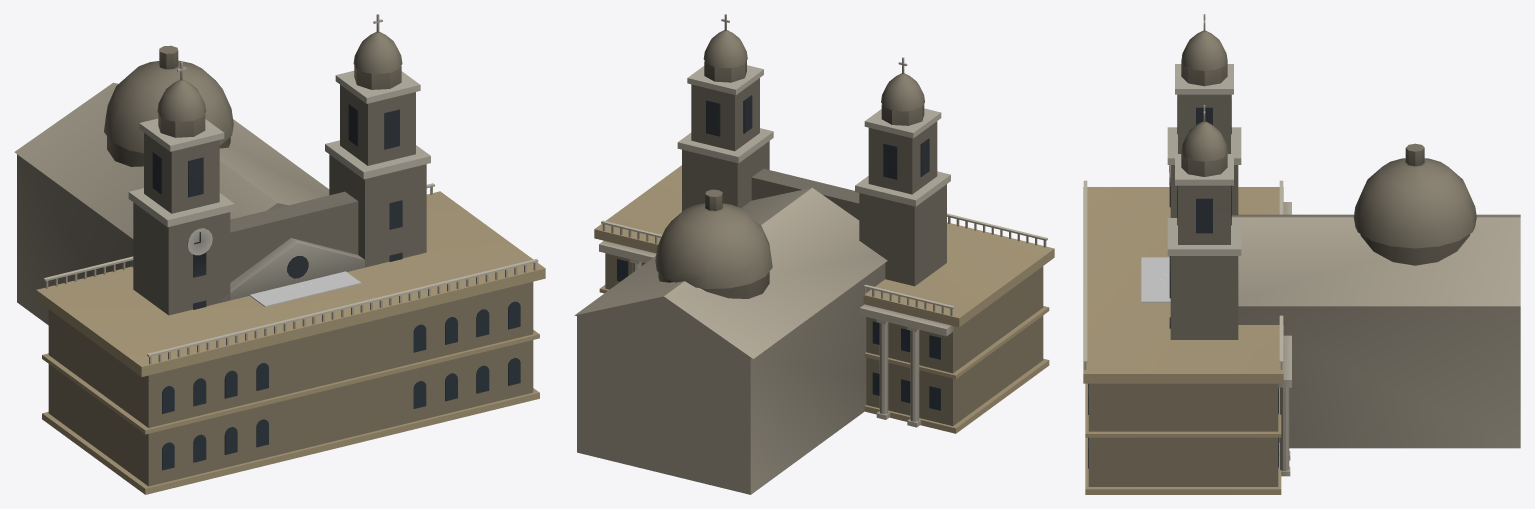
File: managua.glb
3 views of the same model, side by side, from view 1: azimuth 30°, elevation 25°; view 2: azimuth 150°, elevation 25°; view 3: azimuth 270°, elevation 25° (orthographic). The views are drawn at different scales.
Visible parts, largest first — view 1: cat-stone, pal-body, pal-cornice, cat-dome, cat-trim, pal-dark, pal-trim, cat-dark, casa-wall.002; view 2: cat-stone, pal-cornice, pal-body, cat-dome, pal-trim, cat-trim, cat-dark, pal-dark; view 3: cat-stone, pal-cornice, pal-body, cat-dome, cat-trim, pal-trim, casa-wall.002, cat-dark.
Part boxes in pixels (x1,y1,x2,y2): cat-stone: [14, 82, 426, 325]; pal-body: [48, 282, 533, 486]; pal-cornice: [36, 191, 545, 494]; cat-dome: [104, 32, 402, 166]; cat-trim: [128, 14, 430, 302]; pal-dark: [162, 301, 520, 470]; pal-trim: [43, 183, 538, 364]; cat-dark: [152, 104, 402, 309]; casa-wall.002: [249, 271, 361, 306]; cat-stone: [574, 78, 946, 494]; pal-cornice: [594, 165, 1054, 433]; pal-body: [605, 253, 1043, 425]; cat-dome: [655, 30, 924, 298]; pal-trim: [599, 213, 1047, 427]; cat-trim: [677, 14, 950, 206]; cat-dark: [706, 95, 929, 179]; pal-dark: [617, 259, 940, 410]; cat-stone: [1170, 94, 1520, 448]; pal-cornice: [1083, 187, 1283, 494]; pal-body: [1088, 383, 1278, 486]; cat-dome: [1181, 30, 1476, 265]; cat-trim: [1167, 14, 1241, 255]; pal-trim: [1083, 180, 1291, 476]; casa-wall.002: [1141, 257, 1170, 302]; cat-dark: [1169, 94, 1231, 328].
Bounding box in the file's own units: 42 × 36 × 41.5.
